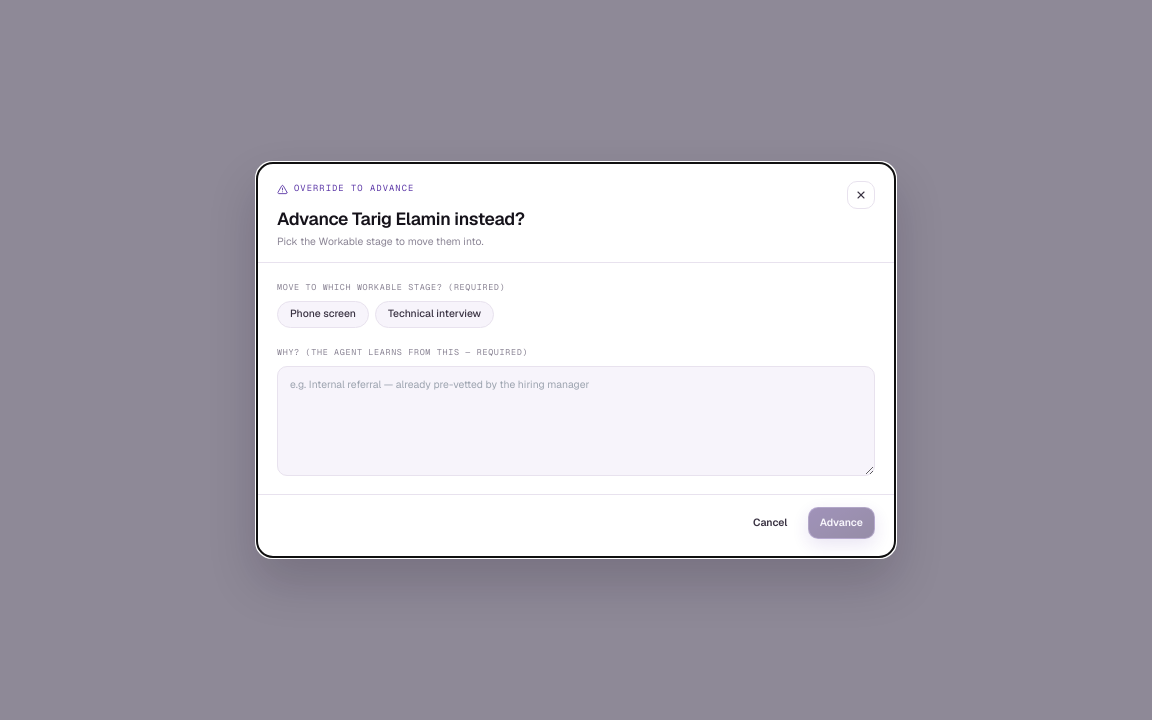
Test: OverrideModal › reconciles an Axios HTTP 408 and hands a locked unknown outcome to the parent
Step 1. Click the radio button labelled "Phone screen" → (323, 315), box [277, 301, 369, 328]
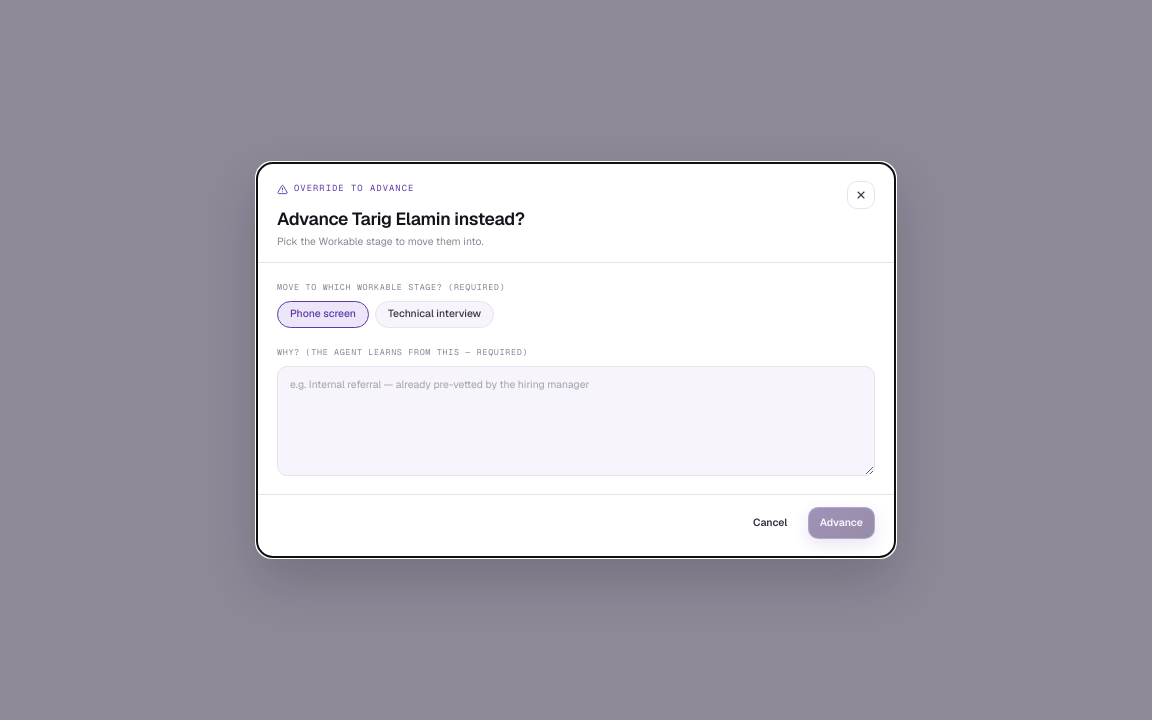
Step 2. Replace the text in the text box labelled "Why? (the agent learns from this — required)" with "Internal referral" → (576, 421), box [277, 366, 875, 476]
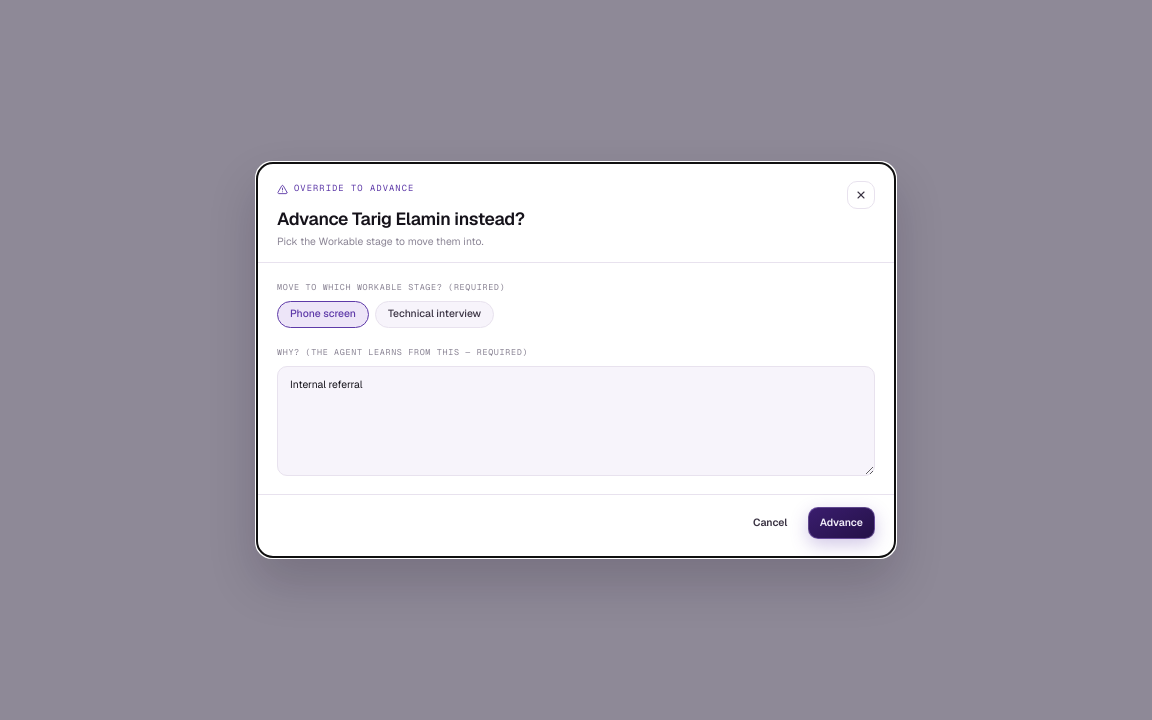
Step 3. Click the button "Advance" → (841, 523), box [808, 507, 875, 539]
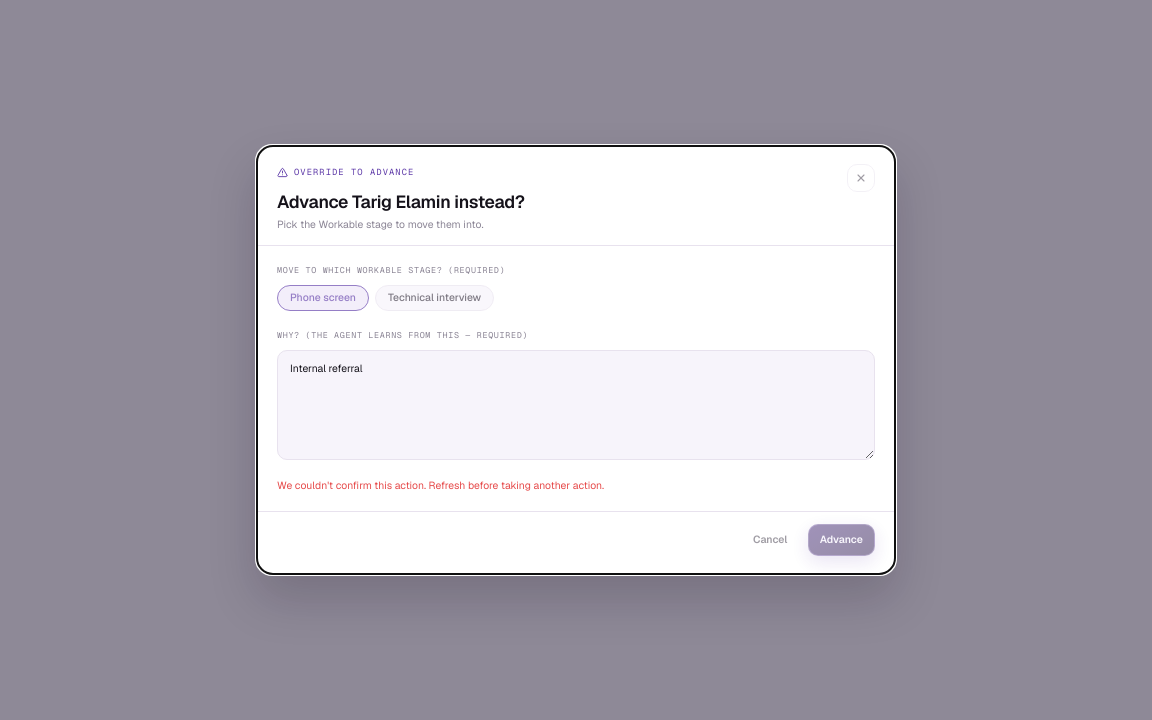
Now the text "We couldn't confirm this action. Refresh before taking another action." is shown, box [277, 479, 604, 492]
Now the button "Advance" is disabled, box [808, 524, 875, 556]
